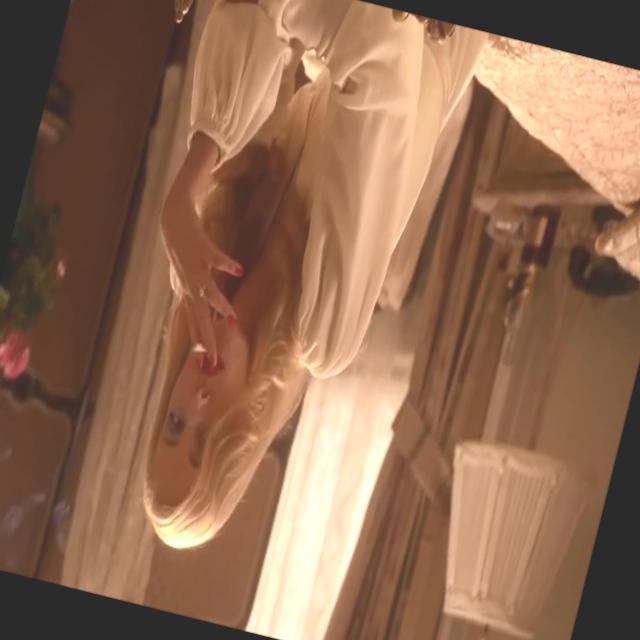cigarette: (180, 323, 218, 378)
